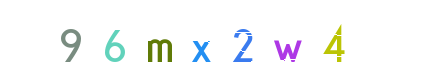2: (185, 0, 265, 80)
4: (295, 0, 375, 80)
6: (93, 0, 173, 80)
9: (35, 0, 115, 80)
M: (119, 0, 199, 80)
W: (247, 0, 327, 80)
X: (173, 0, 253, 80)
